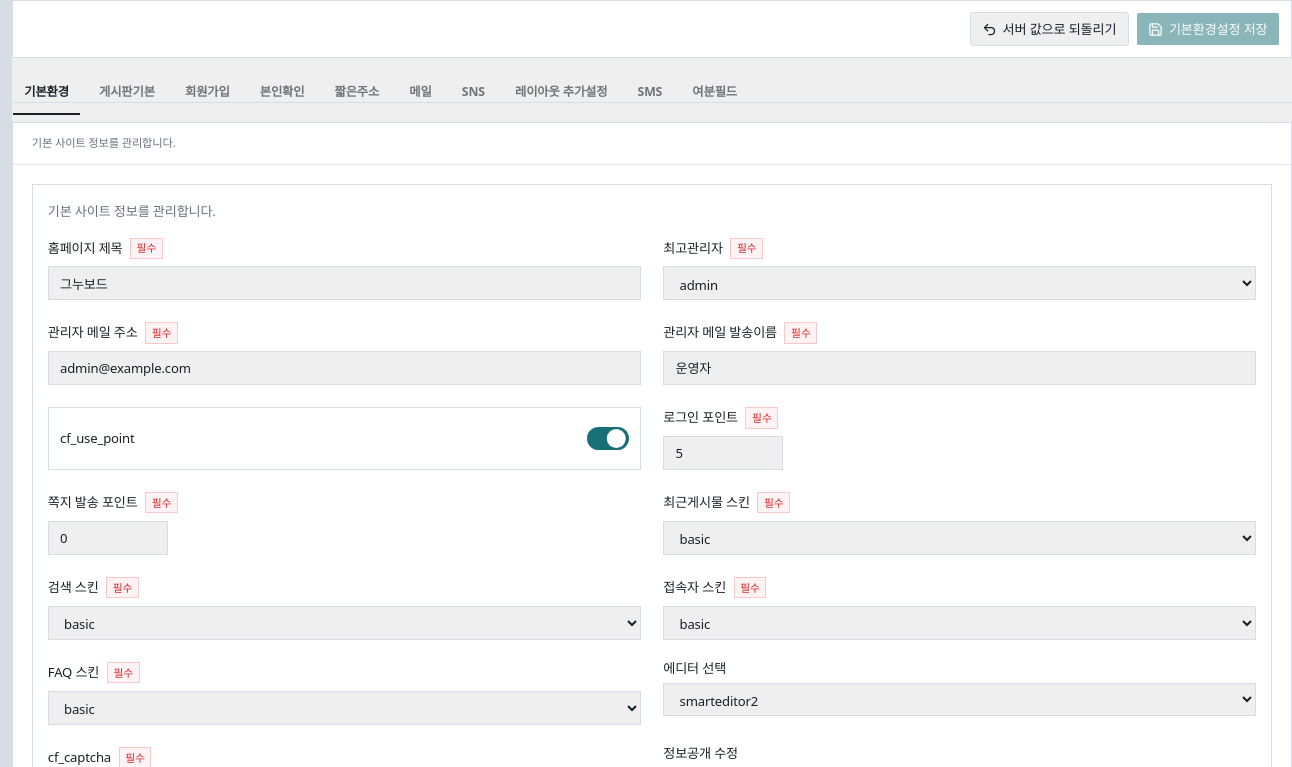
Test: AdminConfigPage validation › blocks submit when a required schema field is blank
The image size is (1292, 767).
Clear the field labelled "홈페이지 제목" at [344, 283], box x1=48 y1=266 x2=641 y2=300
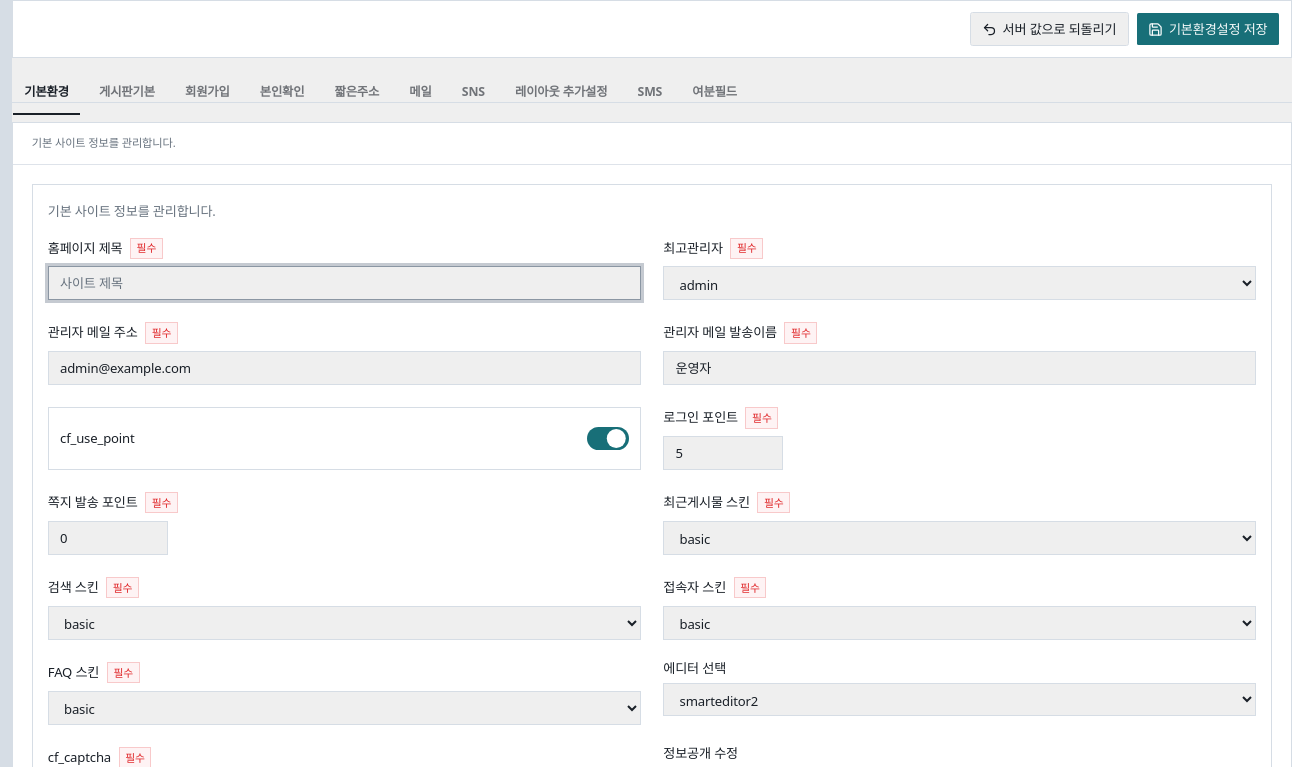
Click the button "기본환경설정 저장" at [1208, 29], box x1=1136 y1=12 x2=1280 y2=46
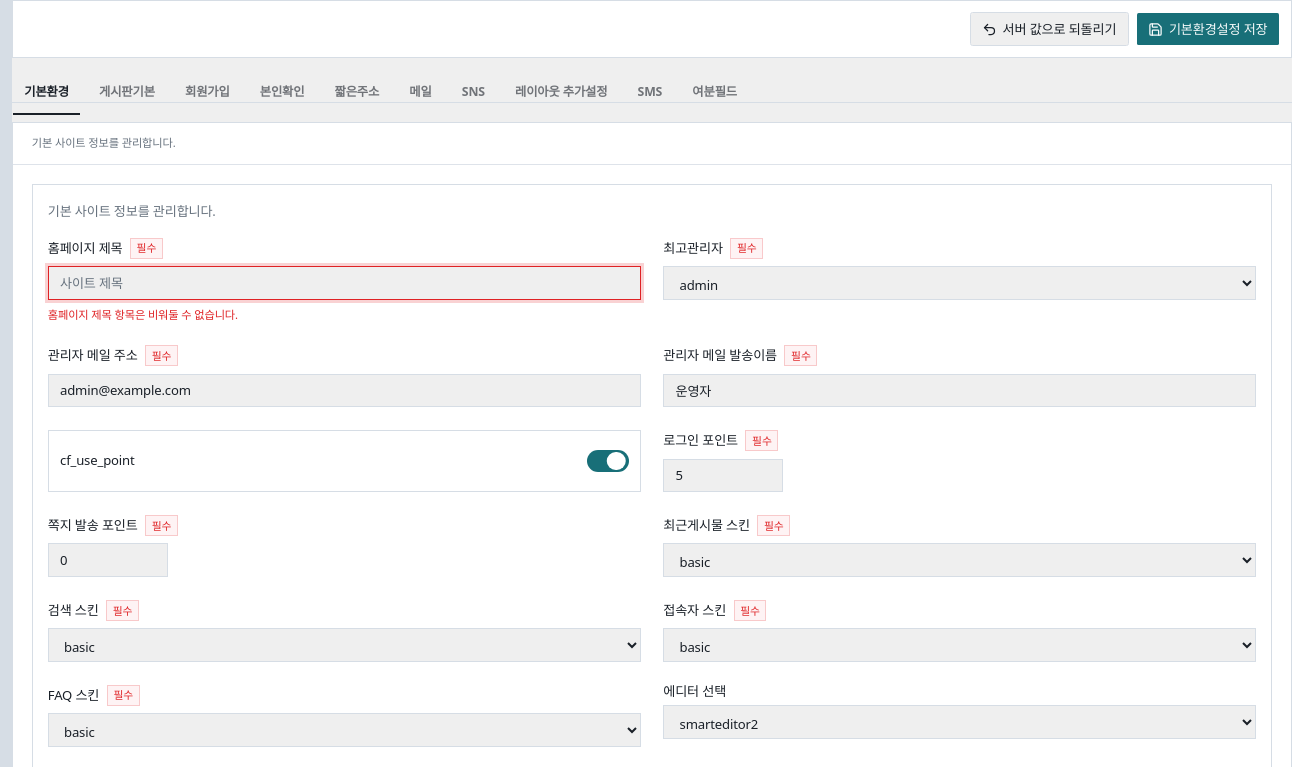
Result: the text "홈페이지 제목 항목은 비워둘 수 없습니다." is shown at x1=48 y1=307 x2=238 y2=322
